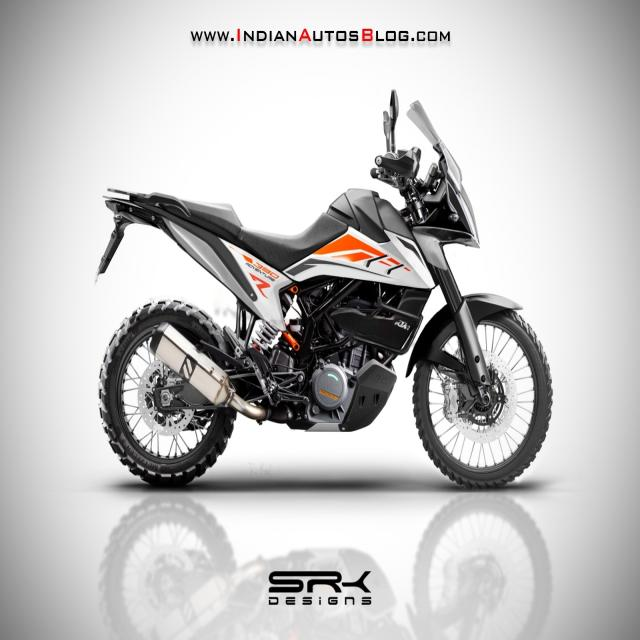motorcycle: (99, 92, 551, 488)
